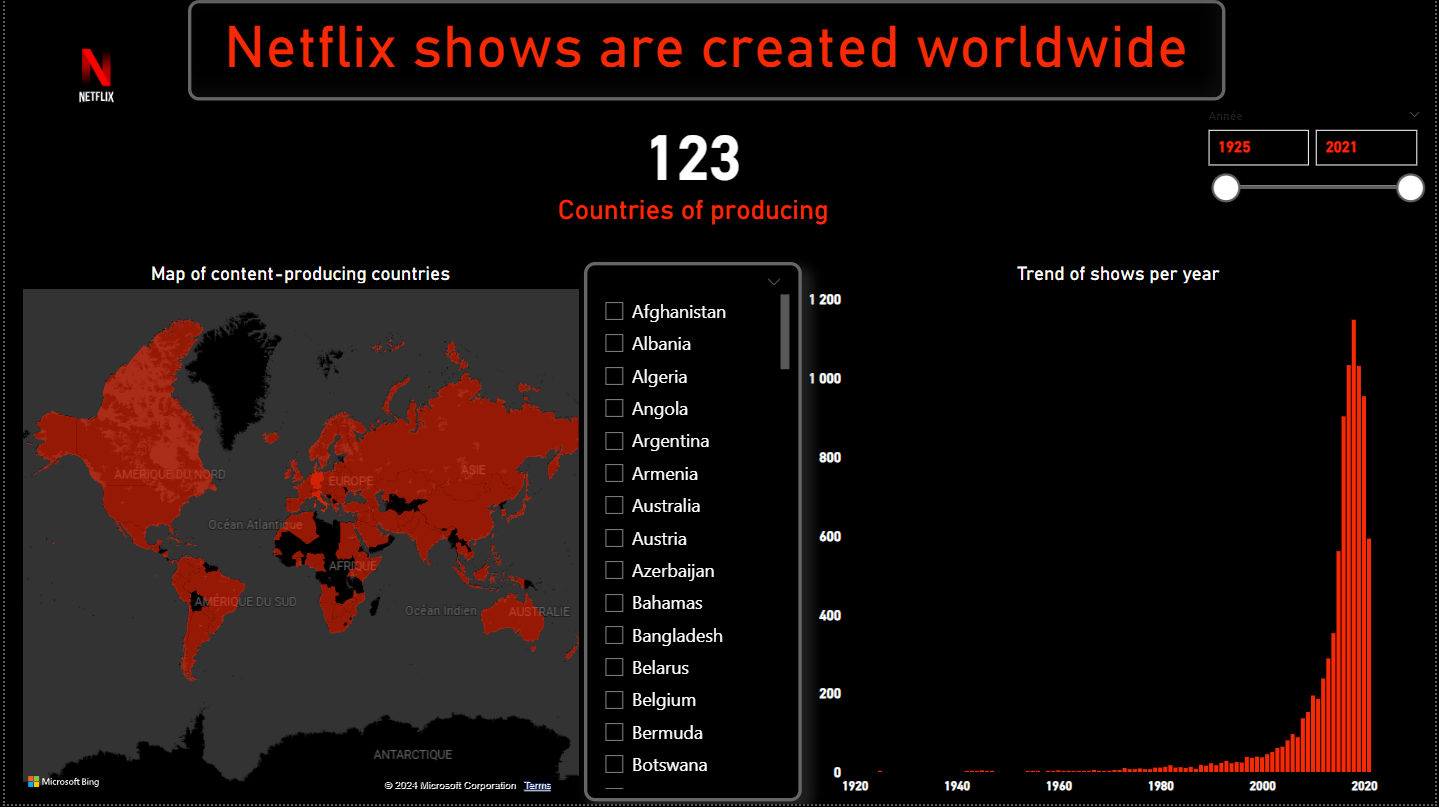

This screenshot's page, from the dashboard's own definition file:
{"tool":"powerbi","page":{"name":"Producing countries","canvas":[1280,720],"ordinal":2},"visuals":[{"type":"textbox","box":[163.9,0,928.7,90.4],"z":0},{"type":"image","box":[0,0,163.9,135.2],"z":1000},{"type":"lineClusteredColumnComboChart","title":"Trend of shows per year","fields":{"Category":["netflix.release_year.Variation.Hiérarchie de dates.Année"],"Y":["Count(netflix.show_id)"]},"box":[713.7,234.6,566,482.7],"z":2000},{"type":"filledMap","title":"Map of content-producing countries","fields":{"Category":["netflix.country"]},"box":[10.7,234.6,507.8,485.4],"z":3000},{"type":"card","fields":{"Values":["Count(netflix.country)"]},"box":[474.6,90.4,283,115.5],"z":4000},{"type":"slicer","fields":{"Values":["netflix.country"]},"box":[518.5,234.6,195.2,482.7],"z":5000},{"type":"slicer","fields":{"Values":["netflix.release_year.Variation.Hiérarchie de dates.Année"]},"box":[1064.8,92.2,214.9,105.7],"z":6000}]}

Visuals, with their boxes in screenshot pixels (x1, y1, x2, y2), scaled from the page's 1280x720 canvas onto the 1439x807 screenshot:
textbox: [x1=184, y1=0, x2=1228, y2=101]
image: [x1=0, y1=0, x2=184, y2=152]
"Trend of shows per year" lineClusteredColumnComboChart: [x1=802, y1=263, x2=1438, y2=804]
"Map of content-producing countries" filledMap: [x1=12, y1=263, x2=583, y2=806]
card - Count(netflix.country): [x1=534, y1=101, x2=852, y2=231]
slicer - netflix.country: [x1=583, y1=263, x2=802, y2=804]
slicer - netflix.release_year.Variation.Hiérarchie de dates.Année: [x1=1197, y1=103, x2=1438, y2=222]
